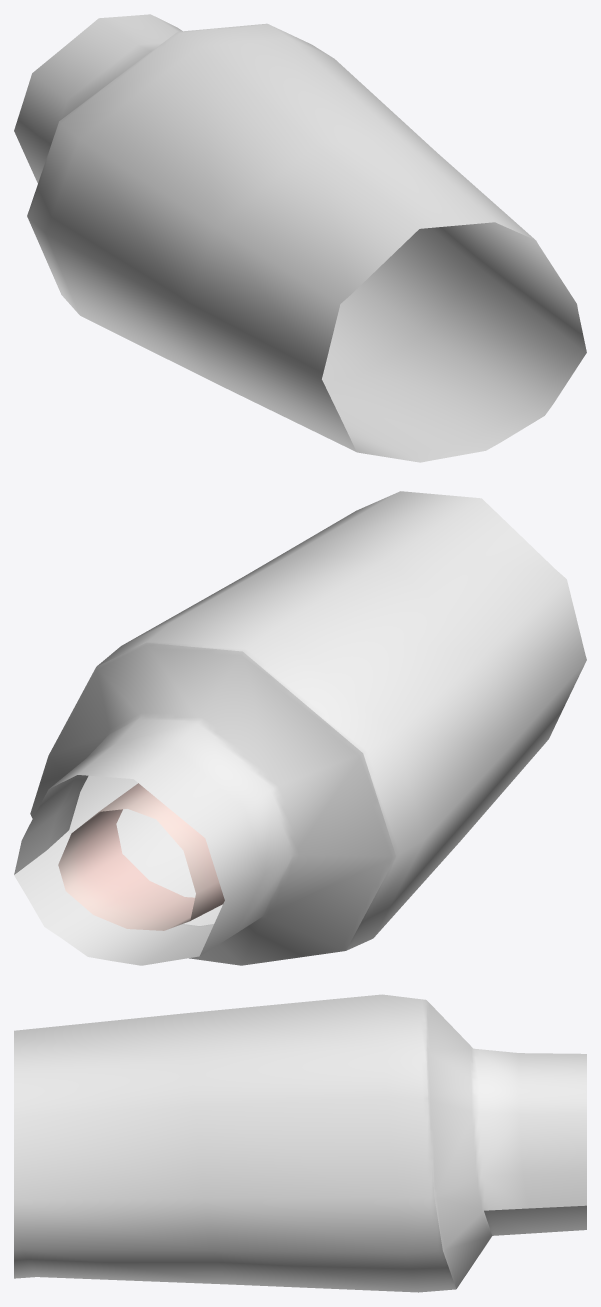
The model's file is IkuyoFretUpper.obj.
The picture shows the model from 3 angles, top to bottom: view 1: azimuth 30°, elevation 25°; view 2: azimuth 150°, elevation 25°; view 3: azimuth 270°, elevation 25°; orthographic projection. The views are drawn at different scales.
Bounding box in the file's own units: 0.2163 × 0.178 × 0.3543.
2 materials, 2 textured.
